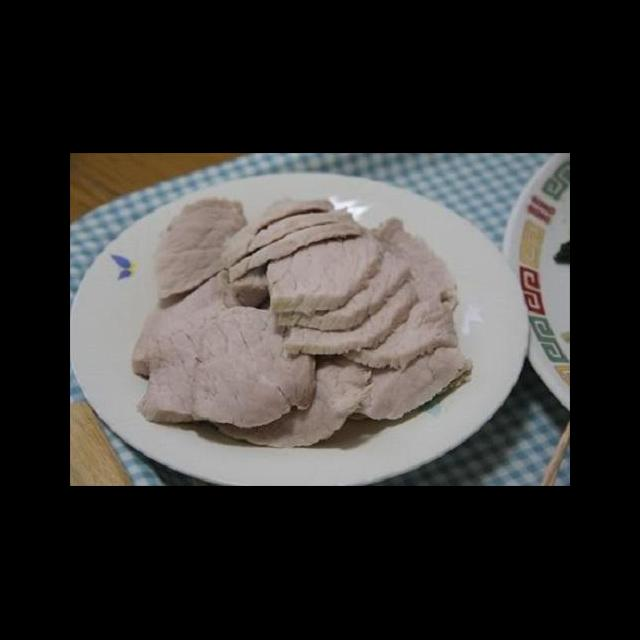thit heo: (207, 344, 376, 452), (183, 302, 320, 432), (134, 296, 245, 431), (130, 264, 251, 382), (263, 204, 388, 316), (272, 247, 413, 336), (280, 274, 421, 362), (337, 344, 476, 432), (223, 202, 364, 284), (151, 195, 255, 304), (339, 284, 463, 374), (366, 213, 462, 320), (212, 194, 337, 272)
